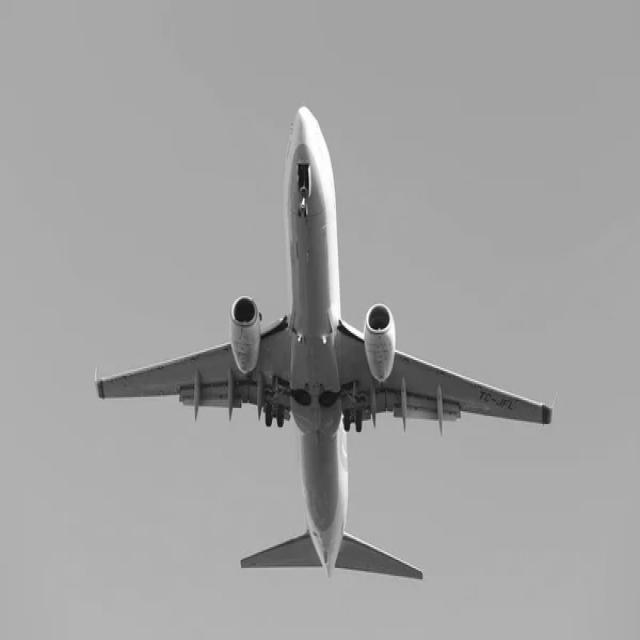Aircraft: (69, 101, 562, 594)
